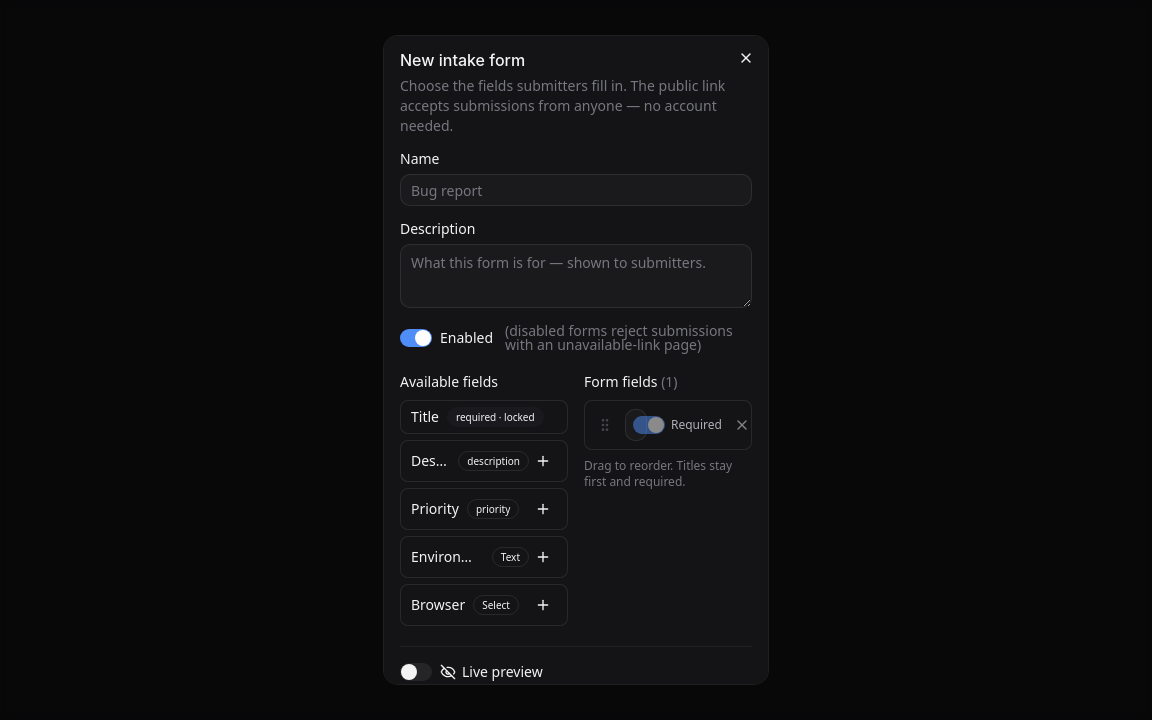
Test: FormBuilderDialog › live preview renders the shared FormRenderer inputs
Click the switch named "Live preview" next to "Live preview".
click(416, 672)  # box x1=400 y1=663 x2=432 y2=681
(page scrolled)
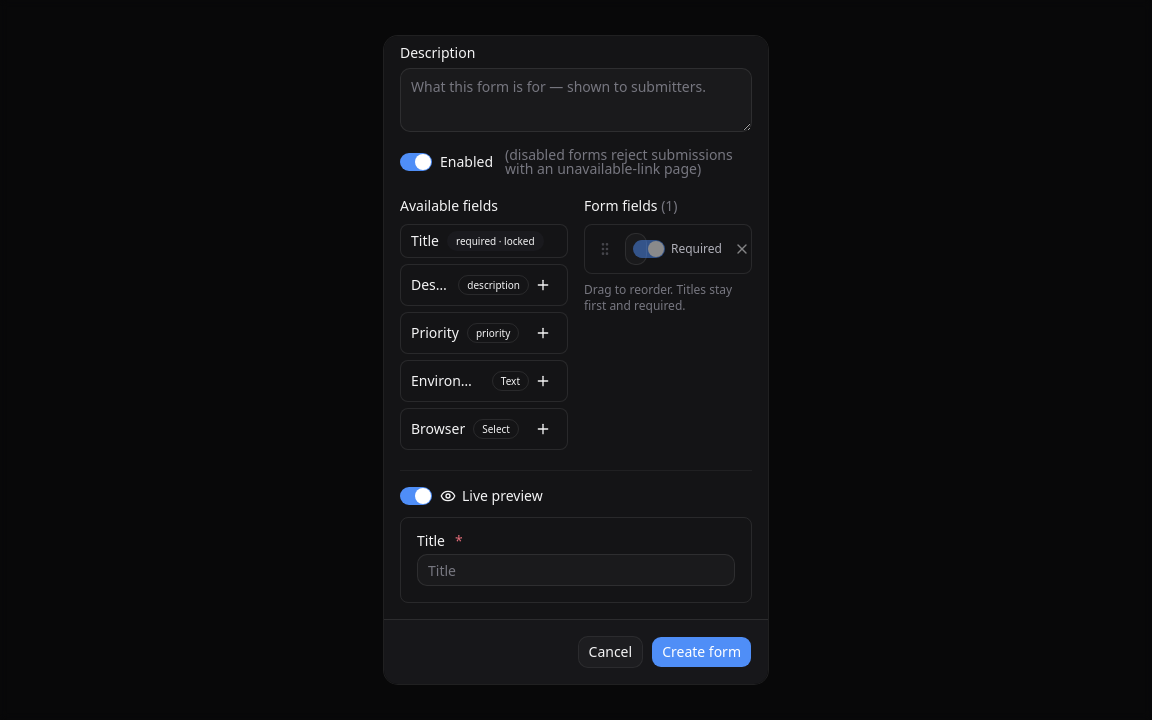
Now the field with placeholder "Title" is shown, box x1=417 y1=554 x2=735 y2=586
